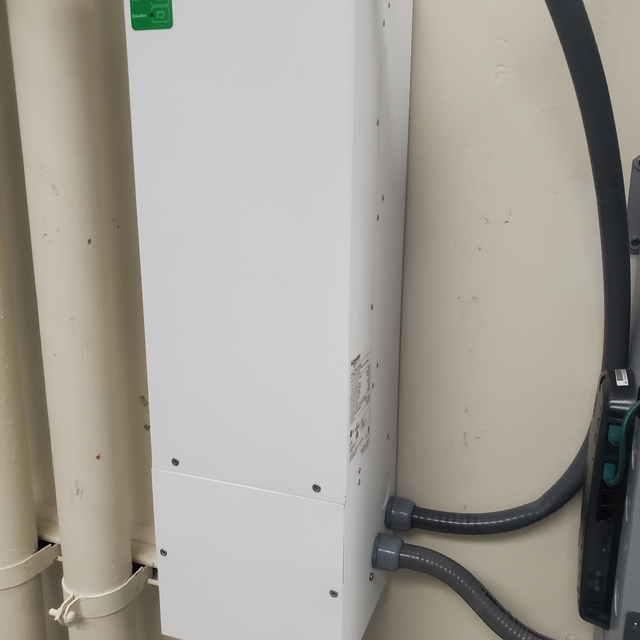charge_controller: (124, 1, 414, 640)
